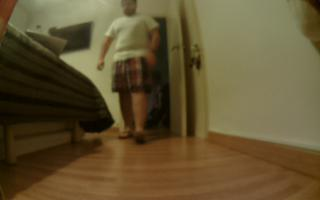person: (97, 1, 164, 146)
